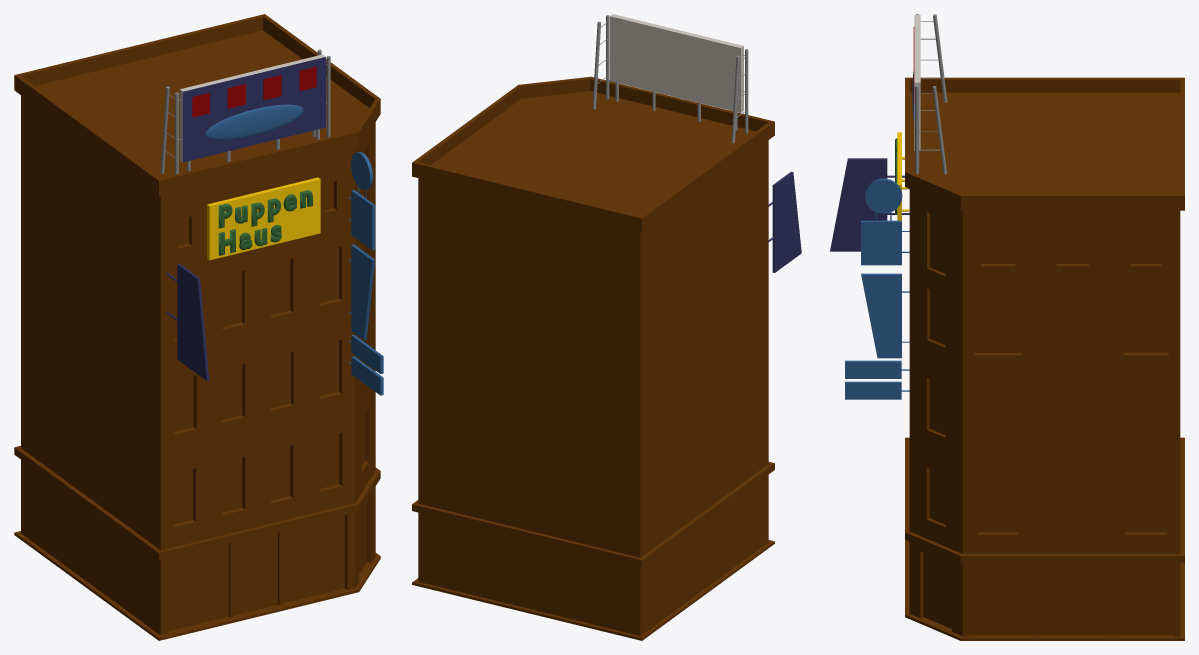
File: puppenhaus.glb
3 renders of one model, left to right at view 1: azimuth 30°, elevation 25°; view 2: azimuth 150°, elevation 25°; view 3: azimuth 270°, elevation 25°, orthographic. The views are drawn at different scales.
Visible parts, largest first — view 1: puppenhaus; view 2: puppenhaus; view 3: puppenhaus.
Boxes of the visible parts, x1,y1,x2,y2 form: puppenhaus: [14, 14, 383, 640]; puppenhaus: [412, 14, 801, 640]; puppenhaus: [830, 14, 1184, 640].
Bounding box in the file's own units: 10 × 20.55 × 12.67.
